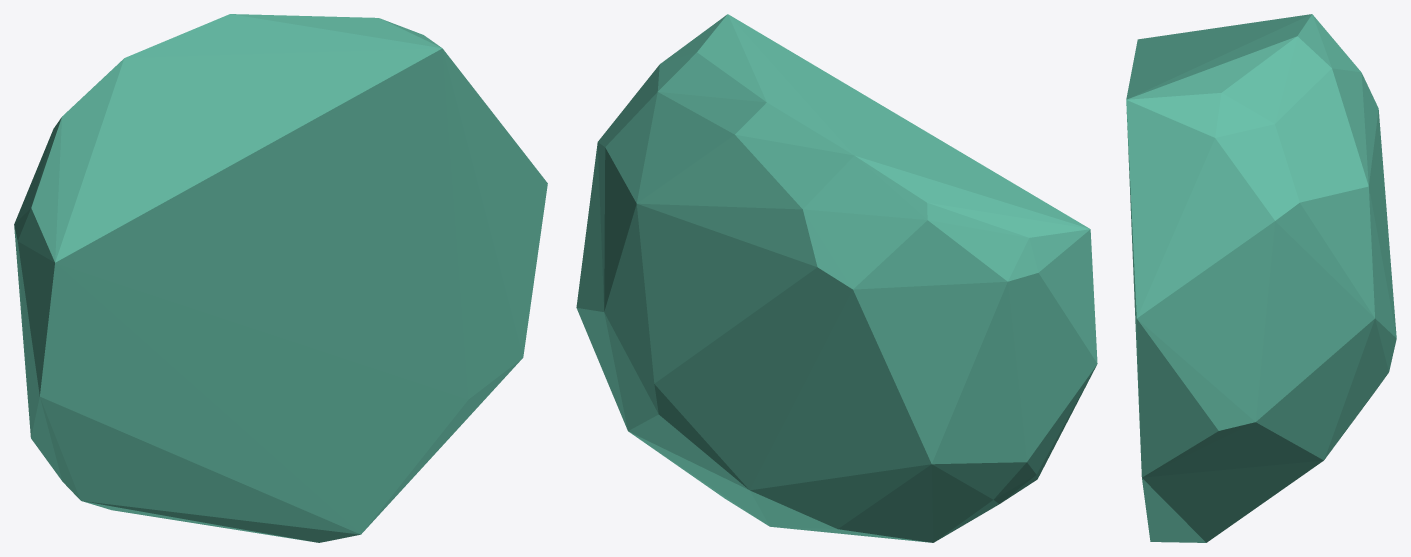
The model's file is food_produce_orange_b01.glb.
3 renders of one model, left to right at view 1: azimuth 30°, elevation 25°; view 2: azimuth 150°, elevation 25°; view 3: azimuth 270°, elevation 25°, orthographic. The views are drawn at different scales.
Parts seen in each view (by area): view 1: geometry_0; view 2: geometry_0; view 3: geometry_0.
Part boxes in pixels (<box>): geometry_0: <box>14,14,547,542</box>; geometry_0: <box>576,14,1097,542</box>; geometry_0: <box>1126,14,1396,542</box>.
Size of the model in its own units: 0.4695 by 0.4355 by 0.2196.
